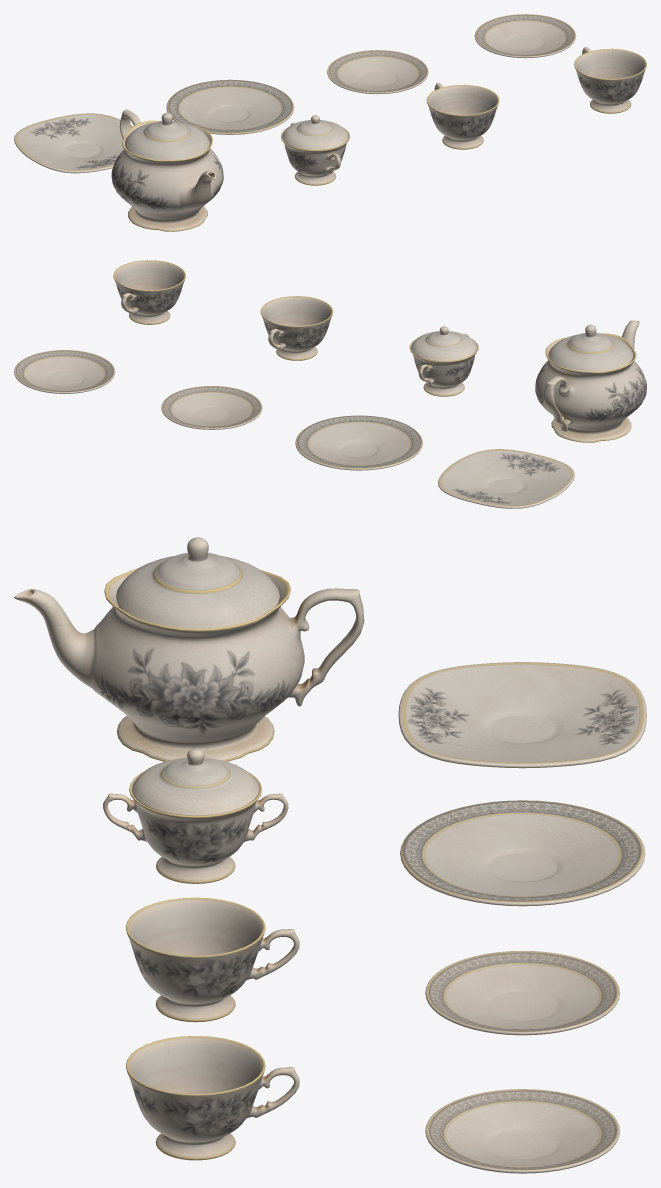
The model's file is tea_set_01_4k.gltf.
3 renders of one model, top to bottom at view 1: azimuth 30°, elevation 25°; view 2: azimuth 150°, elevation 25°; view 3: azimuth 270°, elevation 25°, orthographic. The views are drawn at different scales.
Visible parts, largest first — view 1: tea_set_01_teapot_01, tea_set_01_plate_large_circular_03, tea_set_01_plate_large_square_01, tea_set_01_cup_small_01, tea_set_01_cup_small_02, tea_set_01_saucer_circular_03, tea_set_01_saucer_circular_04, tea_set_01_teapot_01_lid, tea_set_01_sugar_cup_01, tea_set_01_sugar_cup_01_lid; view 2: tea_set_01_teapot_01, tea_set_01_plate_large_square_01, tea_set_01_plate_large_circular_03, tea_set_01_cup_small_01, tea_set_01_cup_small_02, tea_set_01_saucer_circular_04, tea_set_01_saucer_circular_03, tea_set_01_teapot_01_lid, tea_set_01_sugar_cup_01, tea_set_01_sugar_cup_01_lid; view 3: tea_set_01_teapot_01, tea_set_01_plate_large_square_01, tea_set_01_plate_large_circular_03, tea_set_01_cup_small_01, tea_set_01_cup_small_02, tea_set_01_saucer_circular_03, tea_set_01_saucer_circular_04, tea_set_01_teapot_01_lid, tea_set_01_sugar_cup_01, tea_set_01_sugar_cup_01_lid.
Boxes of the visible parts, x1,y1,x2,y2 form: tea_set_01_teapot_01: (111, 109, 223, 231); tea_set_01_plate_large_circular_03: (166, 79, 294, 134); tea_set_01_plate_large_square_01: (14, 113, 133, 173); tea_set_01_cup_small_01: (426, 83, 499, 149); tea_set_01_cup_small_02: (574, 47, 646, 113); tea_set_01_saucer_circular_03: (474, 14, 576, 58); tea_set_01_saucer_circular_04: (327, 50, 428, 94); tea_set_01_teapot_01_lid: (125, 112, 209, 160); tea_set_01_sugar_cup_01: (281, 122, 349, 185); tea_set_01_sugar_cup_01_lid: (282, 115, 348, 150); tea_set_01_teapot_01: (535, 320, 646, 442); tea_set_01_plate_large_square_01: (438, 449, 574, 508); tea_set_01_plate_large_circular_03: (295, 415, 422, 470); tea_set_01_cup_small_01: (260, 296, 333, 360); tea_set_01_cup_small_02: (113, 260, 185, 324); tea_set_01_saucer_circular_04: (161, 386, 262, 429); tea_set_01_saucer_circular_03: (14, 350, 115, 393); tea_set_01_teapot_01_lid: (548, 324, 633, 371); tea_set_01_sugar_cup_01: (409, 333, 478, 396); tea_set_01_sugar_cup_01_lid: (411, 326, 477, 361); tea_set_01_teapot_01: (14, 568, 364, 761); tea_set_01_plate_large_square_01: (398, 662, 646, 768); tea_set_01_plate_large_circular_03: (400, 800, 645, 906); tea_set_01_cup_small_01: (125, 897, 299, 1022); tea_set_01_cup_small_02: (126, 1036, 299, 1160); tea_set_01_saucer_circular_03: (425, 1089, 620, 1173); tea_set_01_saucer_circular_04: (425, 950, 620, 1035); tea_set_01_teapot_01_lid: (116, 537, 279, 628); tea_set_01_sugar_cup_01: (103, 771, 288, 883); tea_set_01_sugar_cup_01_lid: (131, 748, 259, 815).
Size of the model in its own units: 0.9185 by 0.165 by 0.4839.
1 material, 1 textured.
